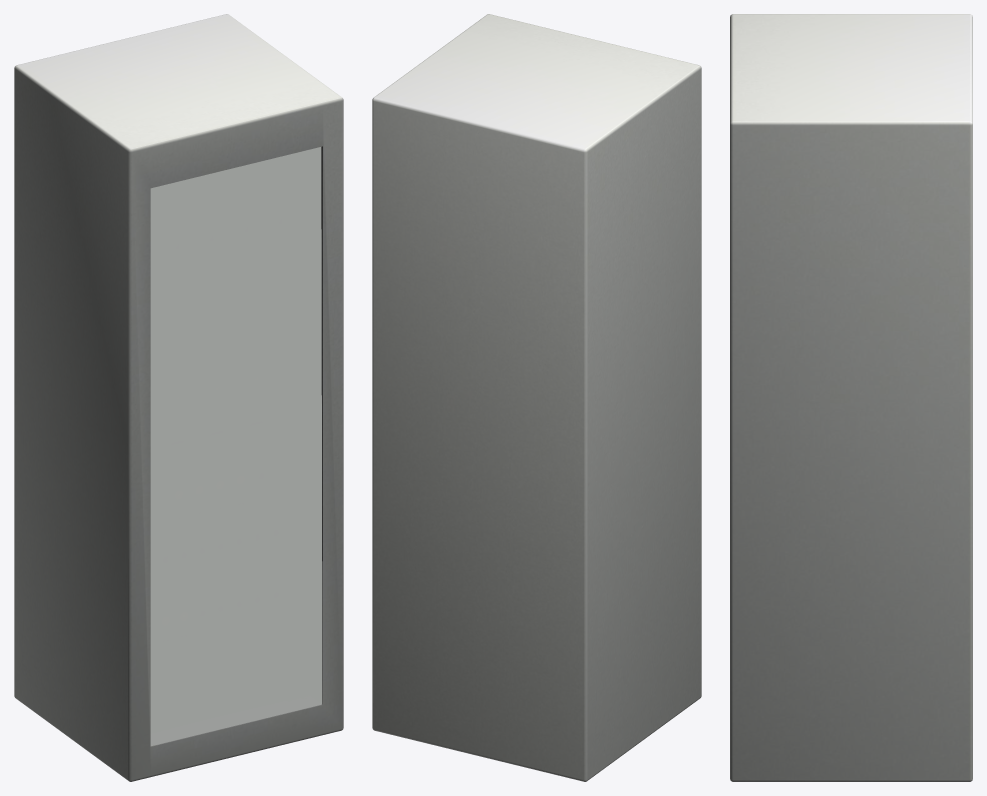
File: zhiliuping1.obj
3 renders of one model, left to right at view 1: azimuth 30°, elevation 25°; view 2: azimuth 150°, elevation 25°; view 3: azimuth 270°, elevation 25°, orthographic. The views are drawn at different scales.
Parts seen in each view (by area): view 1: ChamferBox16, Box05; view 2: ChamferBox16; view 3: ChamferBox16.
Boxes of the visible parts, left/top/right/bottom form: ChamferBox16: left=14, top=14, right=343, bottom=781; Box05: left=150, top=147, right=322, bottom=746; ChamferBox16: left=372, top=14, right=701, bottom=781; ChamferBox16: left=730, top=14, right=972, bottom=781.
Bounding box in the file's own units: 80 × 225 × 75.
2 materials, 1 textured.
